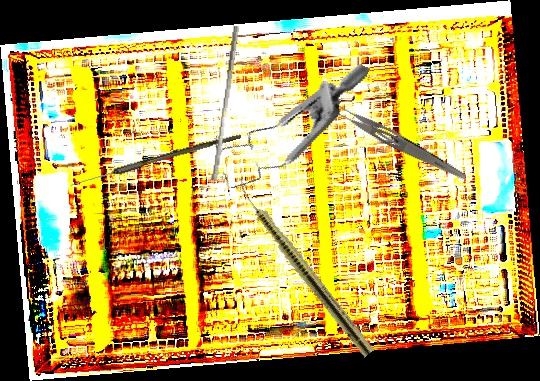Dressing Forceps: (321, 96, 471, 183)
Handpiece: (230, 176, 377, 359)
Pusher: (210, 24, 240, 182)
Speculum: (200, 23, 370, 220)
Surgical Spoon: (69, 130, 242, 190)
